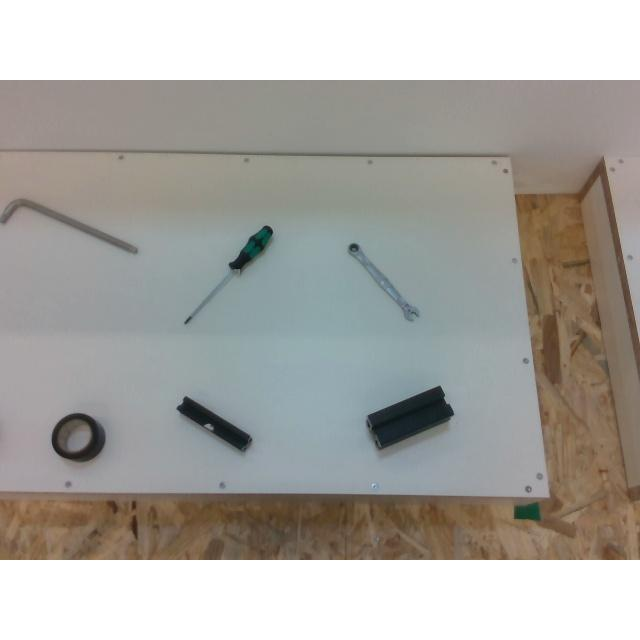AllenKey: (0, 198, 136, 253)
F20_20_B: (176, 396, 252, 450)
S40_40_B: (366, 386, 454, 450)
Screwdriver: (184, 226, 272, 324)
Wrench: (347, 244, 417, 320)
